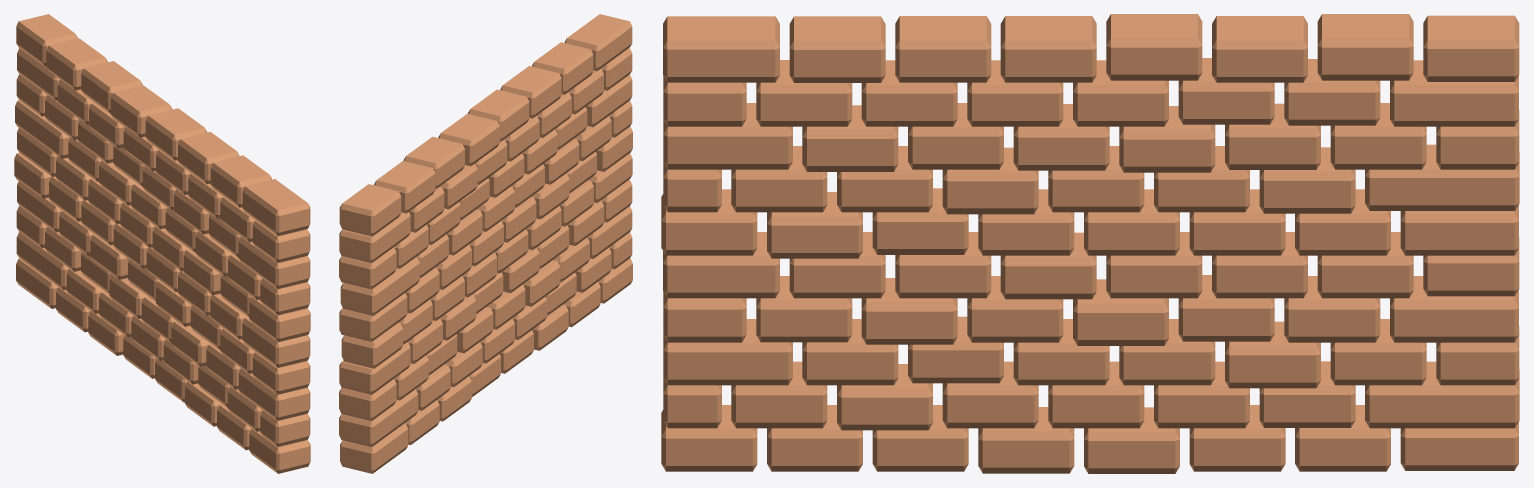
File: breakablewall.fbx
The picture shows the model from 3 angles, left to right: view 1: azimuth 30°, elevation 25°; view 2: azimuth 150°, elevation 25°; view 3: azimuth 270°, elevation 25°; orthographic projection. The views are drawn at different scales.
Parts seen in each view (by area): view 1: breakablewall, breakablewall.017, breakablewall.057, breakablewall.078, breakablewall.076, breakablewall.075, breakablewall.074, breakablewall.073, breakablewall.033, breakablewall.079, breakablewall.077, breakablewall.001 (+68 smaller); view 2: breakablewall.079, breakablewall.056, breakablewall, breakablewall.016, breakablewall.072, breakablewall.032, breakablewall.076, breakablewall.008, breakablewall.078, breakablewall.074, breakablewall.073, breakablewall.048 (+68 smaller); view 3: breakablewall, breakablewall.016, breakablewall.056, breakablewall.073, breakablewall.074, breakablewall.075, breakablewall.076, breakablewall.078, breakablewall.079, breakablewall.077, breakablewall.032, breakablewall.072 (+68 smaller).
Part boxes in pixels (<box>): breakablewall: <box>242,179,310,235</box>; breakablewall.017: <box>238,368,310,420</box>; breakablewall.057: <box>238,236,310,289</box>; breakablewall.078: <box>46,38,107,90</box>; breakablewall.076: <box>111,85,172,137</box>; breakablewall.075: <box>145,108,207,160</box>; breakablewall.074: <box>178,132,239,184</box>; breakablewall.073: <box>210,155,271,207</box>; breakablewall.033: <box>242,317,310,367</box>; breakablewall.079: <box>16,14,77,66</box>; breakablewall.077: <box>81,61,142,113</box>; breakablewall.001: <box>249,428,310,473</box>; breakablewall.079: <box>339,184,401,236</box>; breakablewall.056: <box>340,257,419,315</box>; breakablewall: <box>564,14,632,71</box>; breakablewall.016: <box>339,389,418,447</box>; breakablewall.072: <box>339,212,410,263</box>; breakablewall.032: <box>339,342,410,394</box>; breakablewall.076: <box>438,113,499,166</box>; breakablewall.008: <box>340,423,408,473</box>; breakablewall.078: <box>374,161,435,213</box>; breakablewall.074: <box>500,66,561,118</box>; breakablewall.073: <box>532,42,593,94</box>; breakablewall.048: <box>339,293,407,341</box>; breakablewall: <box>663,16,779,82</box>; breakablewall.016: <box>1365,361,1519,428</box>; breakablewall.056: <box>1365,144,1519,210</box>; breakablewall.073: <box>789,16,885,82</box>; breakablewall.074: <box>895,16,991,82</box>; breakablewall.075: <box>1000,16,1096,82</box>; breakablewall.076: <box>1106,14,1202,80</box>; breakablewall.078: <box>1317,14,1413,80</box>; breakablewall.079: <box>1423,15,1519,81</box>; breakablewall.077: <box>1212,16,1307,82</box>; breakablewall.032: <box>1390,276,1518,342</box>; breakablewall.072: <box>1390,60,1518,126</box>.
Size of the model in its own units: 25.79 by 156 by 281.
